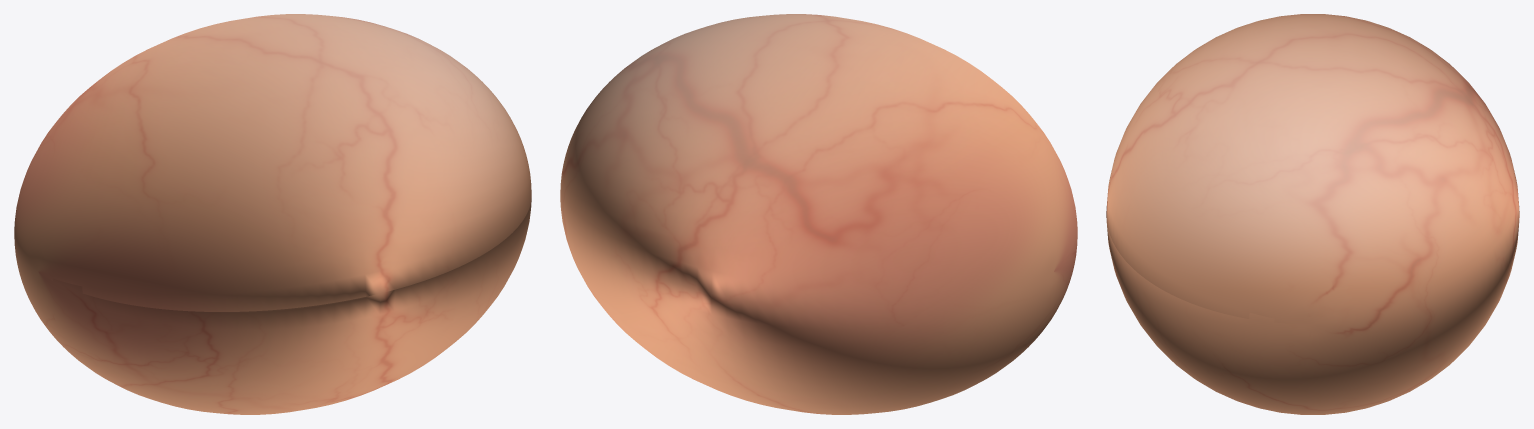
3 views of the same model, side by side, from view 1: azimuth 30°, elevation 25°; view 2: azimuth 150°, elevation 25°; view 3: azimuth 270°, elevation 25° (orthographic). The views are drawn at different scales.
Visible parts, largest first — view 1: default; view 2: default; view 3: default.
Boxes of the visible parts, <box> form: default: <box>14,14,531,414</box>; default: <box>560,14,1077,414</box>; default: <box>1106,14,1519,414</box>.
Bounding box in the file's own units: 4.76 × 3.39 × 3.79.
Materials: 3 (3 with a texture image).
